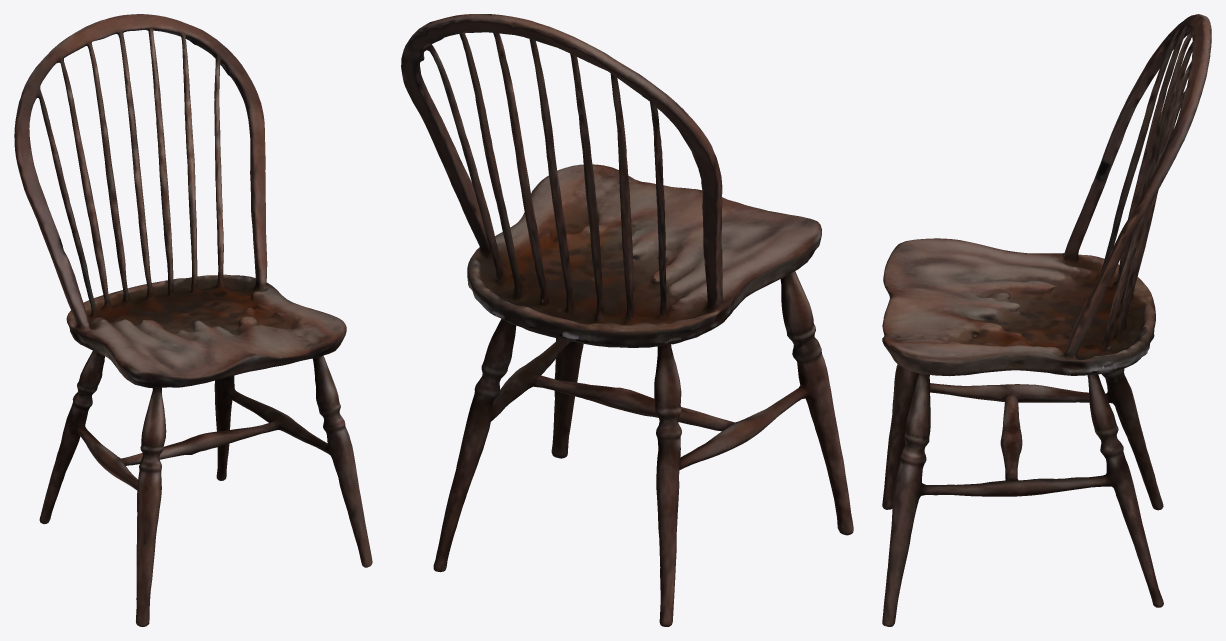
3 views of the same model, side by side, from view 1: azimuth 30°, elevation 25°; view 2: azimuth 150°, elevation 25°; view 3: azimuth 270°, elevation 25° (orthographic). The views are drawn at different scales.
Visible parts, largest first — view 1: Mesh_0; view 2: Mesh_0; view 3: Mesh_0.
Part boxes in pixels (box(x1,y1,x2,y2)): Mesh_0: box(14, 14, 372, 626); Mesh_0: box(401, 14, 853, 626); Mesh_0: box(882, 14, 1211, 626).
Size of the model in its own units: 0.4447 by 0.84 by 0.4665.
1 material, 1 textured.
